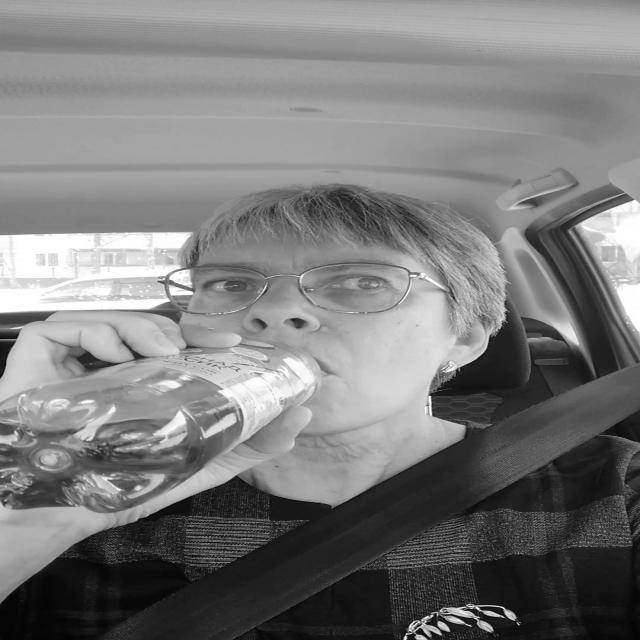Drinking: (3, 337, 316, 511)
Seatbelt: (109, 359, 639, 640)
